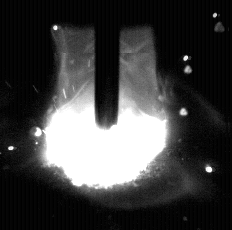arame: (95, 0, 120, 130)
poca: (45, 0, 169, 230)
